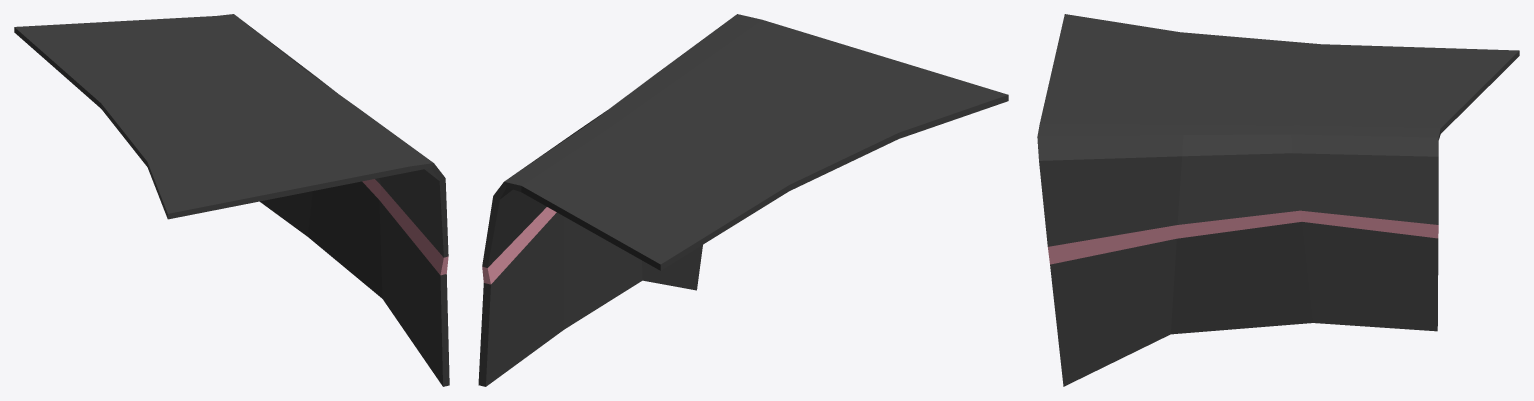
The model's file is Laundry_towel1.fbx.
The picture shows the model from 3 angles, left to right: view 1: azimuth 30°, elevation 25°; view 2: azimuth 150°, elevation 25°; view 3: azimuth 270°, elevation 25°; orthographic projection. The views are drawn at different scales.
Visible parts, largest first — view 1: Laundry_towel1; view 2: Laundry_towel1; view 3: Laundry_towel1.
Boxes of the visible parts, x1,y1,x2,y2 form: Laundry_towel1: [14, 14, 449, 386]; Laundry_towel1: [478, 14, 1008, 386]; Laundry_towel1: [1037, 14, 1519, 386].
Size of the model in its own units: 40.27 by 32.91 by 60.41.
